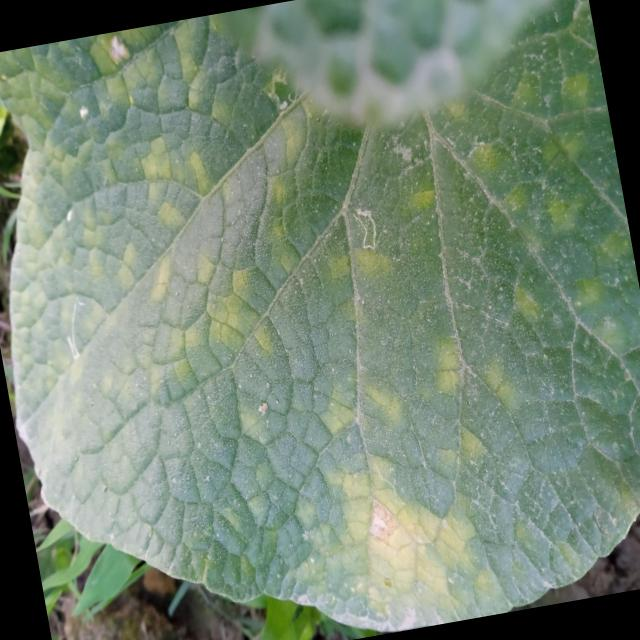cucumber_downy: (0, 89, 640, 640), (0, 16, 243, 252)
